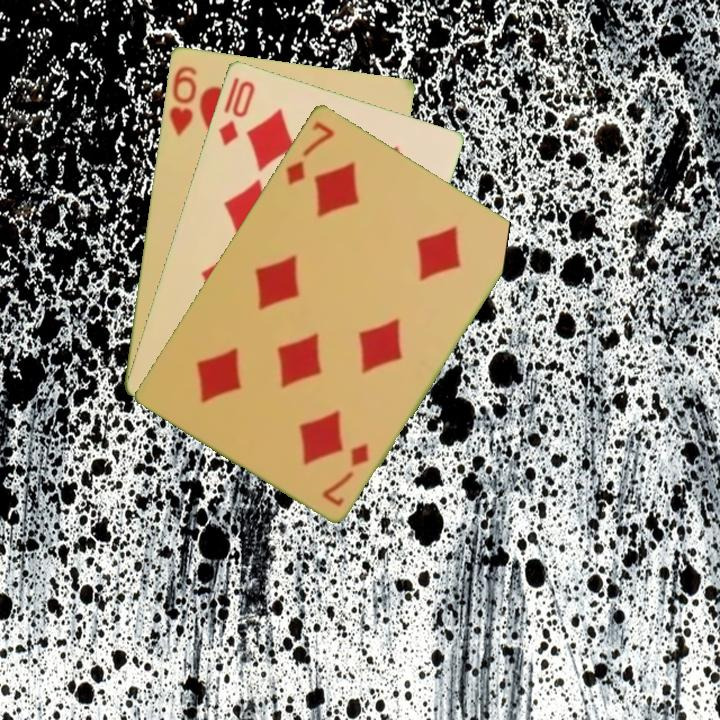10d: (214, 73, 258, 149)
6h: (165, 62, 199, 138)
7d: (282, 117, 338, 188), (318, 438, 372, 509)
